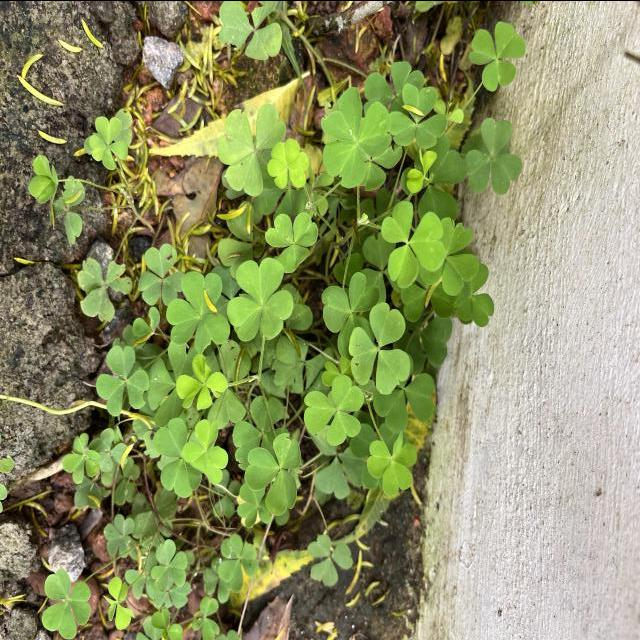Oxalis corniculata: (321, 85, 392, 189), (217, 102, 287, 196), (348, 300, 412, 394), (381, 198, 446, 288), (226, 256, 294, 341), (166, 269, 230, 355), (244, 431, 302, 516), (464, 116, 523, 196), (303, 373, 365, 445), (468, 19, 526, 92), (387, 82, 448, 150), (96, 343, 150, 416), (42, 568, 92, 639), (366, 429, 418, 497), (264, 211, 320, 273), (182, 417, 229, 485), (175, 354, 228, 411), (217, 531, 259, 592), (88, 114, 128, 170), (267, 137, 310, 189), (150, 538, 188, 592)
